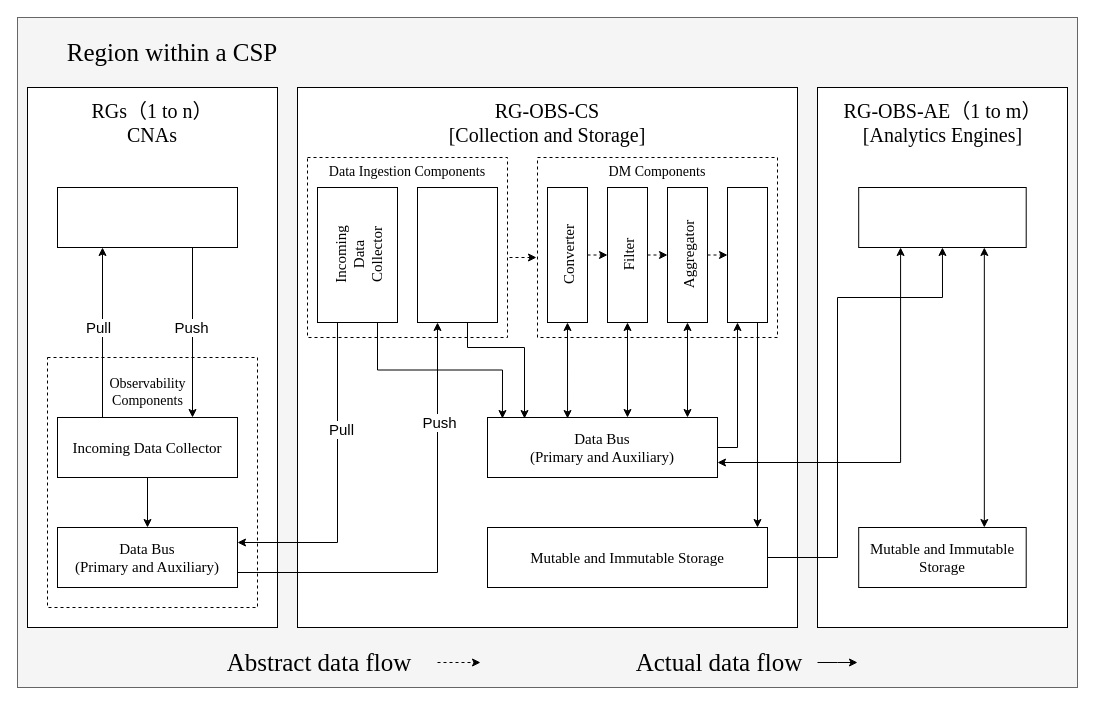
The diagram is 1095 pixels wide and 705 high, and some of its shapes have lost their labels. Here are the shapes that lost their labels. From the top down, the centre of each, then its label:
At (x=147, y=217): "CNA Components".
At (x=942, y=217): "Analytics Engines".
At (x=457, y=254): "Incoming API".
At (x=747, y=254): "Archiver".
